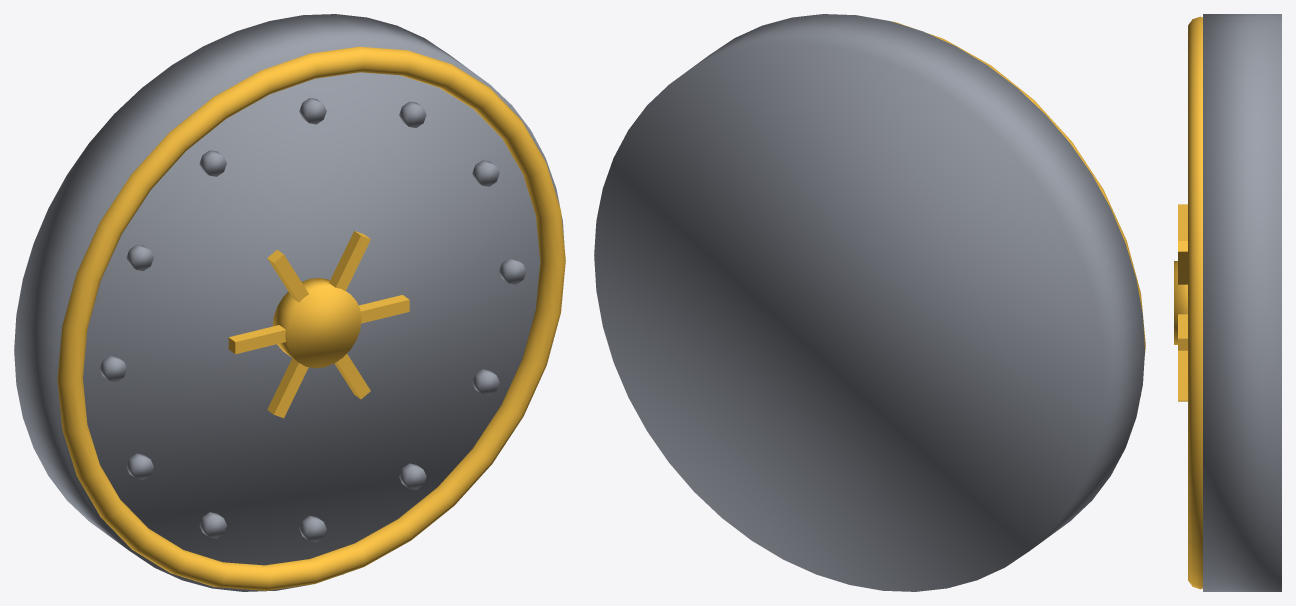
Rendered from VaultDoor.fbx.
3 renders of one model, left to right at view 1: azimuth 30°, elevation 25°; view 2: azimuth 150°, elevation 25°; view 3: azimuth 270°, elevation 25°, orthographic.
Visible parts, largest first — view 1: Steel_Door, Gold_Ring, Gold_Hub, Gold_Spoke2, Gold_Spoke0, Gold_Spoke1; view 2: Steel_Door, Gold_Ring; view 3: Steel_Door, Gold_Ring, Gold_Spoke1, Gold_Hub, Gold_Spoke2, Gold_Spoke0.
Part boxes in pixels (x1,y1,x2,y2): Steel_Door: (14,14,564,591); Gold_Ring: (57,46,565,590); Gold_Hub: (272,278,361,368); Gold_Spoke2: (267,231,370,418); Gold_Spoke0: (228,295,409,354); Gold_Spoke1: (267,249,370,399); Steel_Door: (594,14,1144,591); Gold_Ring: (891,21,1145,395); Steel_Door: (1203,14,1281,591); Gold_Ring: (1188,16,1202,589); Gold_Spoke1: (1178,204,1187,401); Gold_Hub: (1174,261,1187,344); Gold_Spoke2: (1178,241,1187,284); Gold_Spoke0: (1178,314,1187,350).
Size of the model in its own units: 22 by 22 by 4.1.
